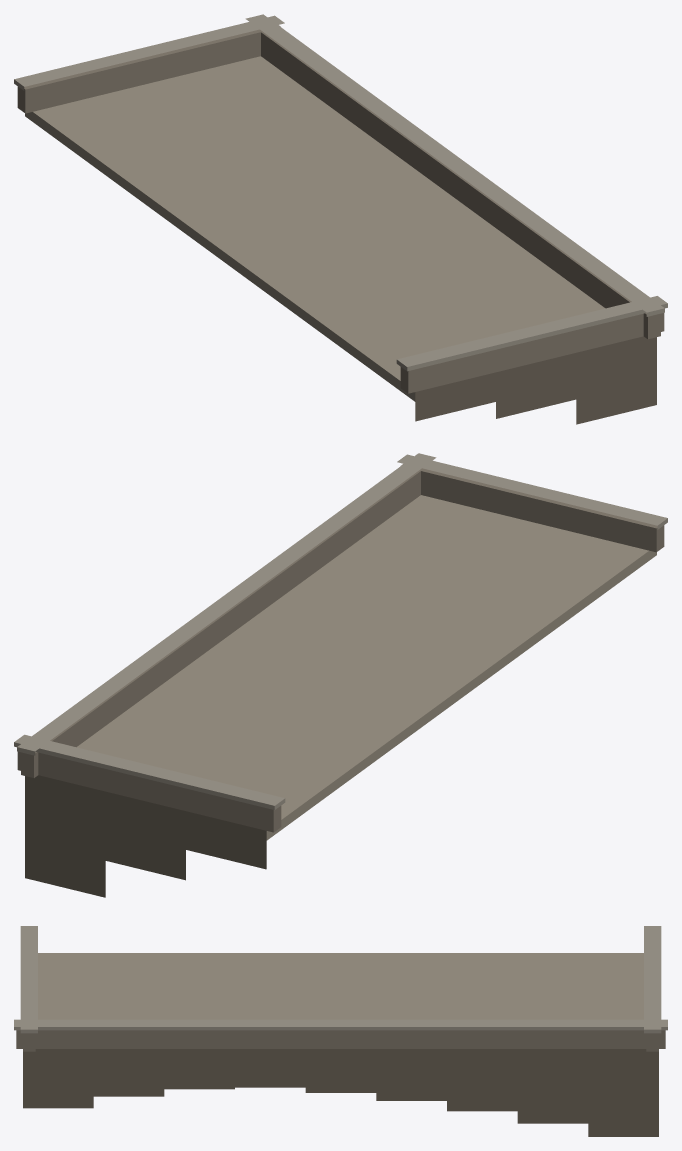
Rendered from twinPeaks_lod1.glb.
3 views of the same model, one above another, from view 1: azimuth 30°, elevation 25°; view 2: azimuth 150°, elevation 25°; view 3: azimuth 270°, elevation 25° (orthographic). The views are drawn at different scales.
Visible parts, largest first — view 1: L1_paving, L1_stone, L1_granite; view 2: L1_paving, L1_stone, L1_granite; view 3: L1_stone, L1_paving, L1_granite.
Boxes of the visible parts, box(x1,y1,x2,y2) form: L1_paving: box(25, 56, 605, 401); L1_stone: box(17, 25, 664, 424); L1_granite: box(14, 14, 667, 371); L1_paving: box(77, 495, 656, 840); L1_stone: box(17, 464, 664, 897); L1_granite: box(14, 453, 667, 809); L1_stone: box(16, 1030, 665, 1136); L1_paving: box(38, 953, 643, 1019); L1_granite: box(14, 926, 667, 1033).
Bounding box in the file's own units: 10.8 × 5.39 × 28.8.
